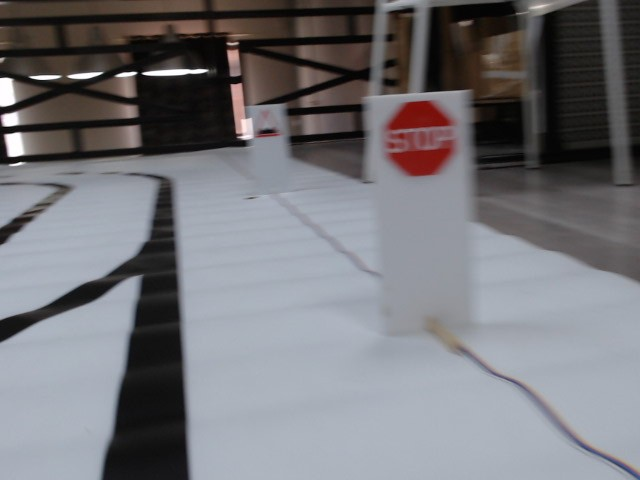Nerov: (255, 108, 283, 137)
Stop: (381, 100, 461, 181)
